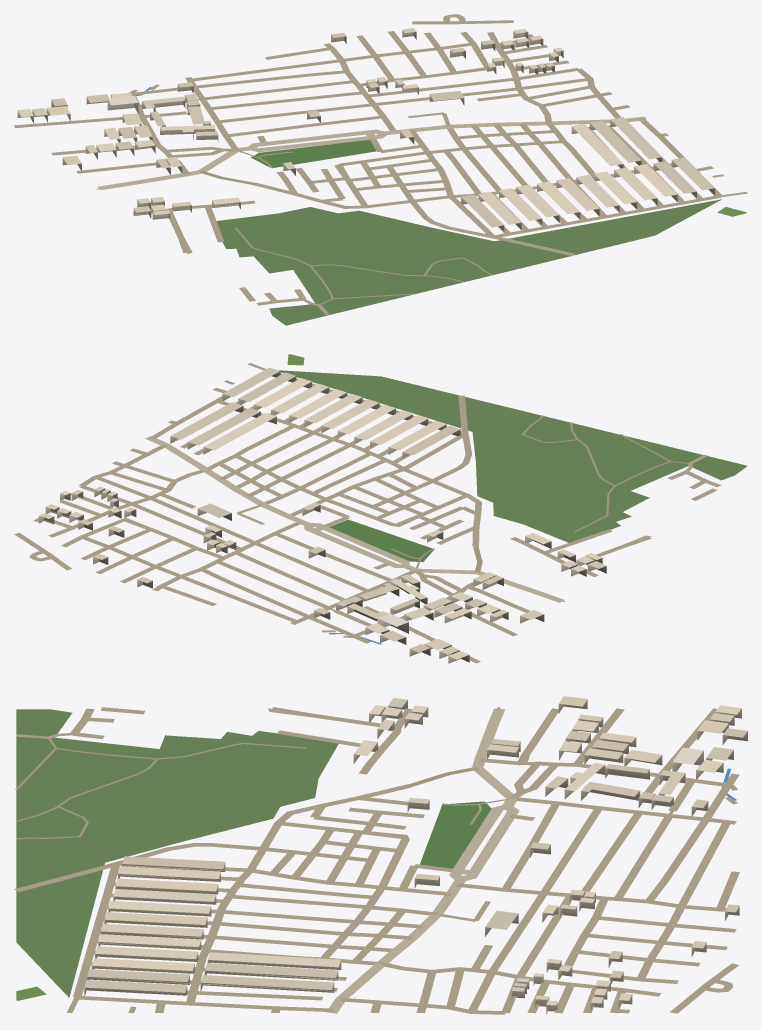
3 views of the same model, one above another, from view 1: azimuth 30°, elevation 25°; view 2: azimuth 150°, elevation 25°; view 3: azimuth 270°, elevation 25° (orthographic). The views are drawn at different scales.
Parts seen in each view (by area): view 1: ground, building; view 2: ground, building; view 3: ground, building.
Boxes of the visible parts, box(x1,y1,x2,y2) form: ground: box(14, 14, 747, 325); building: box(17, 28, 714, 231); ground: box(14, 354, 747, 663); building: box(39, 367, 606, 663); ground: box(14, 707, 739, 1014); building: box(84, 696, 747, 1014).
Bounding box in the file's own units: 510 × 12 × 510.
